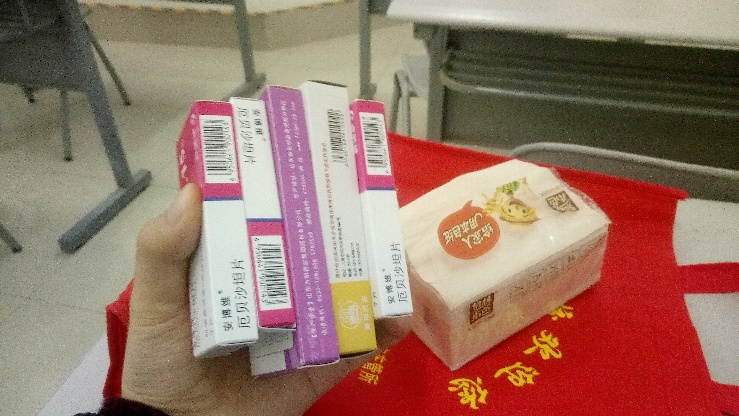pillbox: (267, 87, 340, 372), (305, 79, 379, 355), (179, 101, 253, 362), (228, 95, 298, 333), (353, 95, 414, 319)
